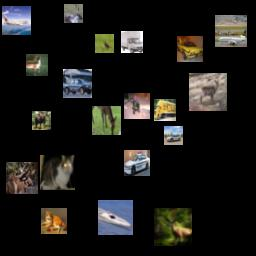airplane: (215, 15, 247, 47), (2, 6, 31, 35)
automobile: (63, 69, 92, 98), (177, 36, 203, 62), (124, 150, 150, 176), (164, 126, 183, 145)
bird: (95, 34, 114, 53)
cat: (40, 155, 75, 190), (124, 93, 150, 119), (41, 208, 67, 234)
deer: (154, 208, 192, 246), (189, 73, 227, 111), (6, 162, 38, 194), (92, 106, 121, 135), (26, 54, 48, 76), (32, 111, 51, 130), (64, 4, 83, 23)
ship: (98, 200, 133, 235)
truck: (154, 99, 176, 121), (121, 31, 143, 53)
